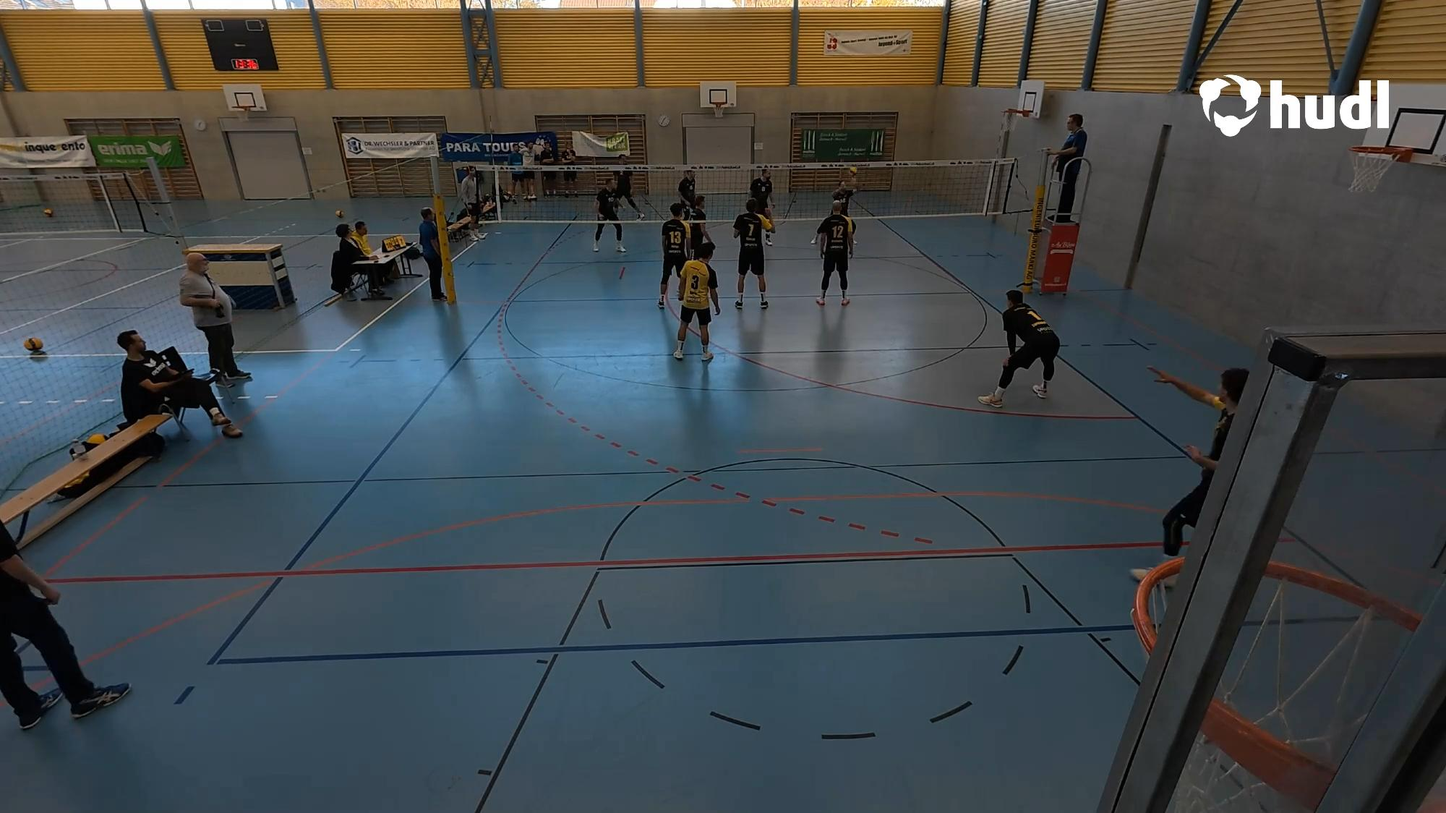Player: (1125, 365, 1257, 652), (976, 288, 1061, 407), (672, 245, 719, 362), (655, 205, 697, 312), (731, 202, 772, 309), (813, 209, 855, 306), (590, 182, 628, 255), (680, 194, 718, 255), (747, 166, 775, 239), (612, 170, 638, 221), (676, 168, 700, 202)
Receive: (827, 162, 861, 223)
ball: (846, 164, 859, 177)
